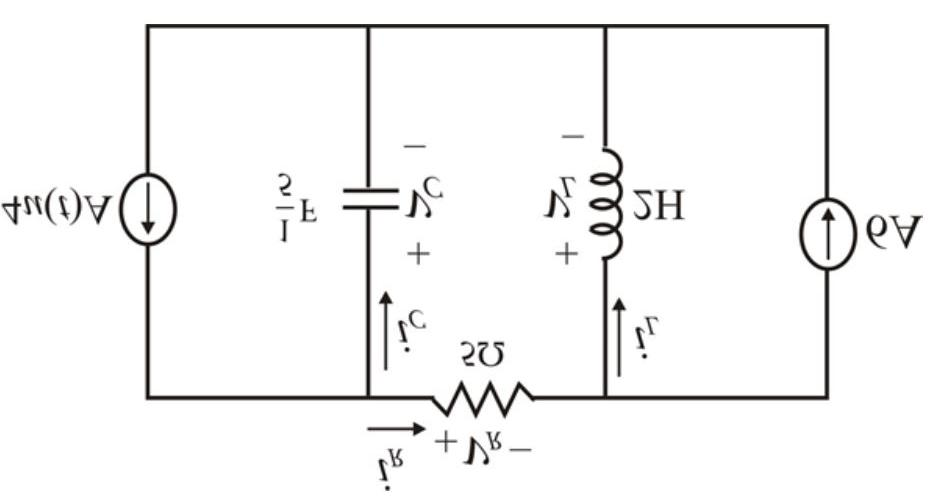inductor: (575, 125, 646, 300)
